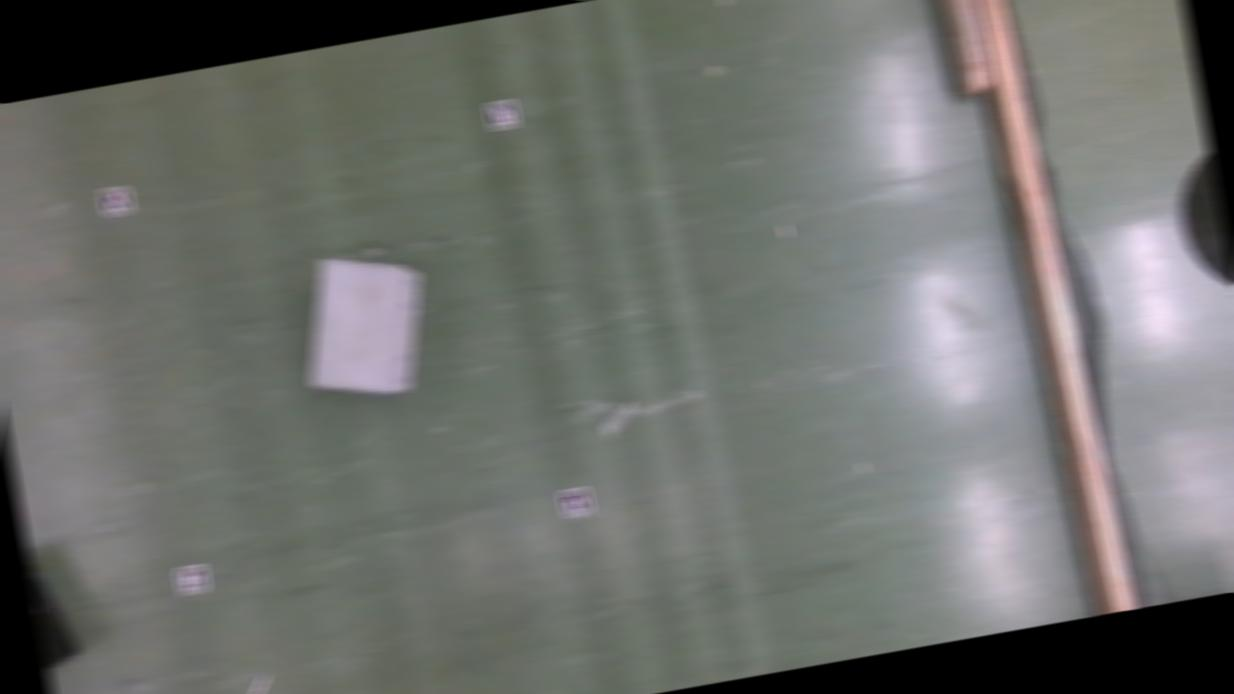probes: (598, 400, 641, 438), (239, 675, 272, 694)
rako: (288, 243, 440, 410), (24, 546, 82, 676)
